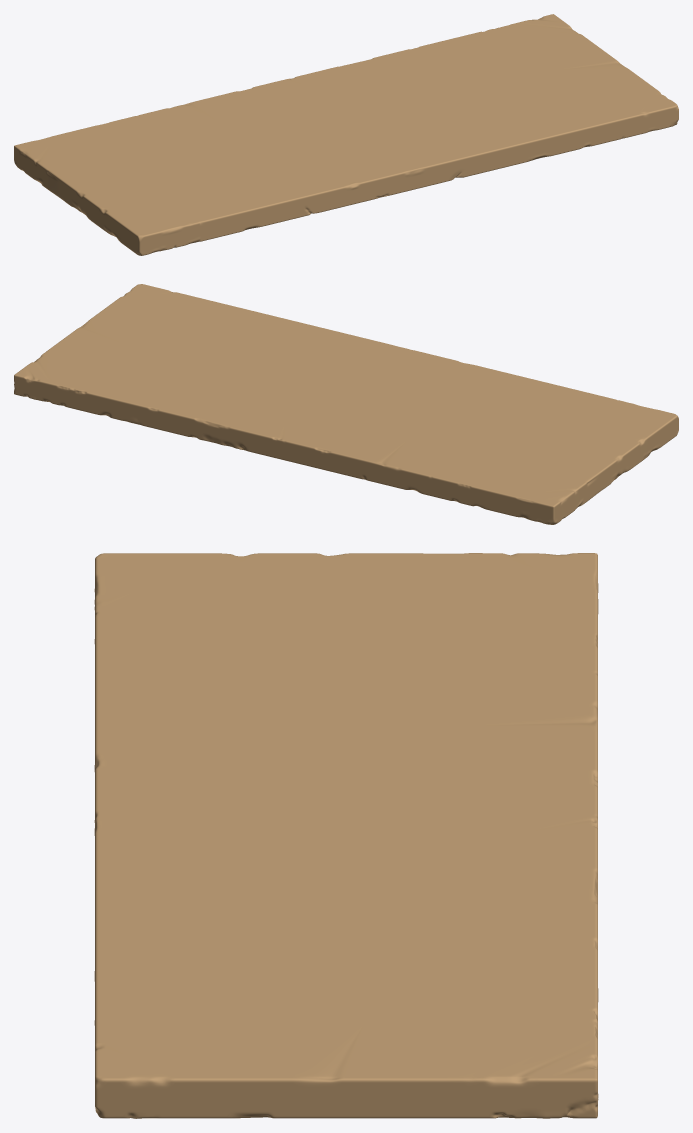
The model's file is misc_boards_wooden_a02.glb.
3 views of the same model, one above another, from view 1: azimuth 30°, elevation 25°; view 2: azimuth 150°, elevation 25°; view 3: azimuth 270°, elevation 25° (orthographic). The views are drawn at different scales.
Bounding box in the file's own units: 0.5765 × 0.0206 × 0.2327.
